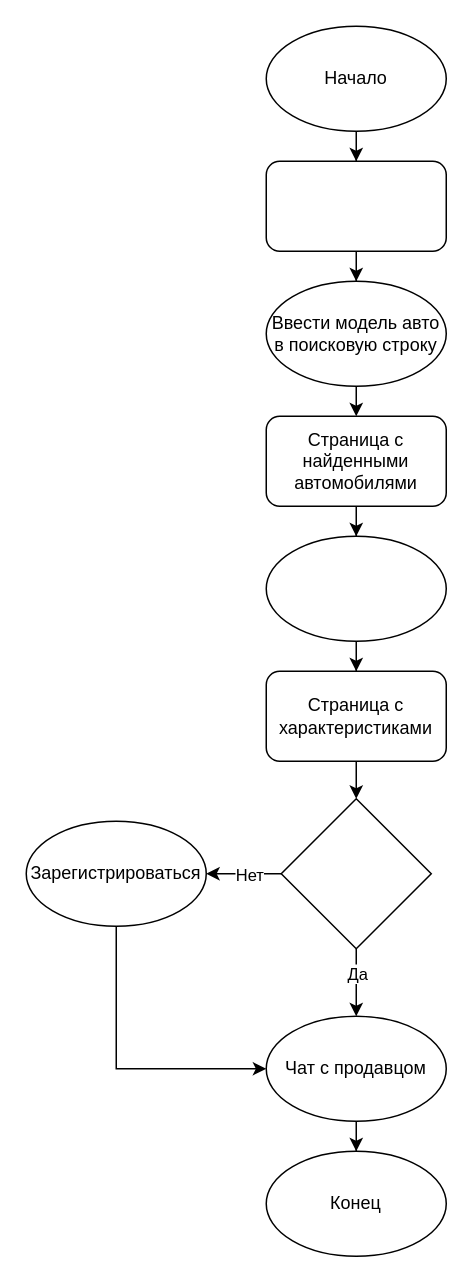
This 473x1283 diagram has some shape labels left out. Here are the shapes that lost their labels. From the top down, the centre of each, then its label:
At point 355,205: "Главная страница".
At point 355,588: "Выбрать интересующий автомобиль".
At point 355,873: "Есть аккаунт?".
